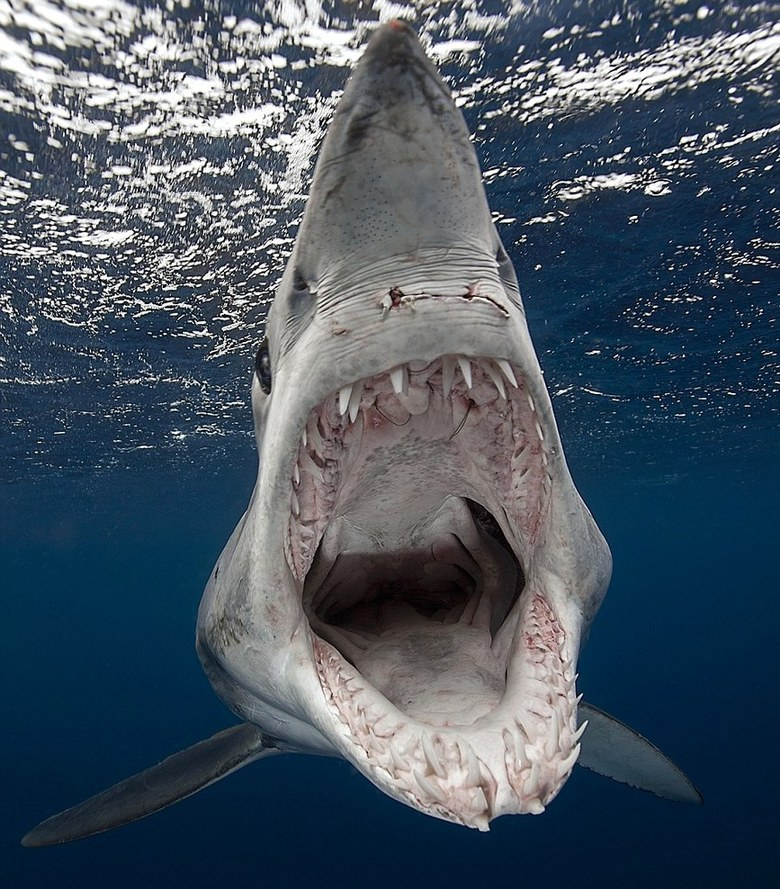shark: (8, 16, 717, 867)
